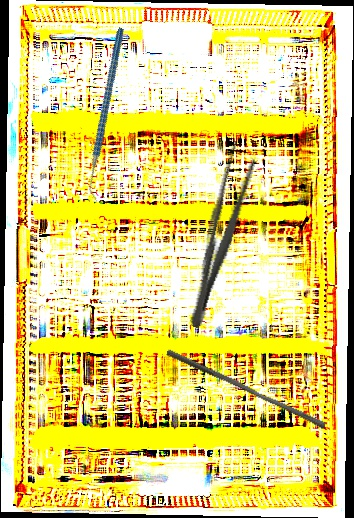Chopper: (37, 26, 179, 204)
Dressing Forceps: (180, 139, 260, 332)
Pusher: (163, 348, 329, 430)
